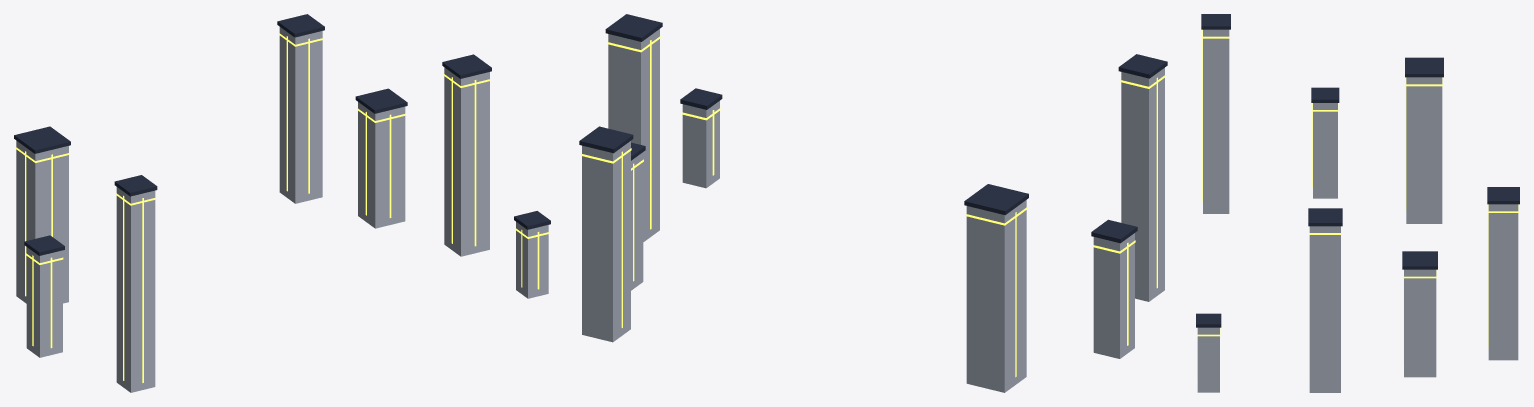
3 renders of one model, left to right at view 1: azimuth 30°, elevation 25°; view 2: azimuth 150°, elevation 25°; view 3: azimuth 270°, elevation 25°, orthographic. The views are drawn at different scales.
Parts seen in each view (by area): view 1: nexo_spires_taller.lod1; view 2: nexo_spires_taller.lod1; view 3: nexo_spires_taller.lod1.
Boxes of the visible parts, x1,y1,x2,y2 form: nexo_spires_taller.lod1: (14,14,550,392); nexo_spires_taller.lod1: (579,14,1167,392); nexo_spires_taller.lod1: (1196,14,1519,392).
Size of the model in its own units: 26.37 by 11.22 by 17.49.
